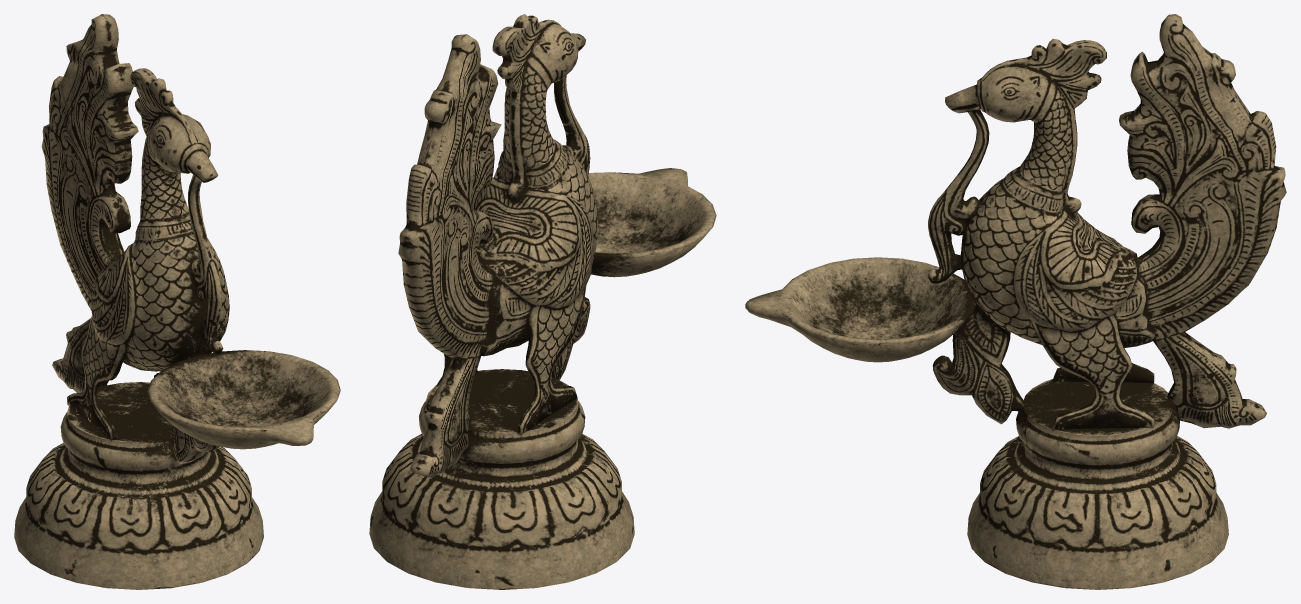
The model's file is candleStick.glb.
The picture shows the model from 3 angles, left to right: view 1: azimuth 30°, elevation 25°; view 2: azimuth 150°, elevation 25°; view 3: azimuth 270°, elevation 25°; orthographic projection. The views are drawn at different scales.
Parts seen in each view (by area): view 1: sa, Cylinder001, Sphere001; view 2: sa, Cylinder001, Sphere001; view 3: sa, Cylinder001, Sphere001.
Part boxes in pixels (x1=…): sa: x1=41, y1=14, x2=229, y2=464; Cylinder001: x1=14, y1=382, x2=263, y2=589; Sphere001: x1=147, y1=350, x2=340, y2=449; sa: x1=398, y1=14, x2=598, y2=477; Cylinder001: x1=369, y1=369, x2=634, y2=589; Sphere001: x1=588, y1=168, x2=716, y2=277; sa: x1=928, y1=14, x2=1286, y2=430; Cylinder001: x1=967, y1=379, x2=1228, y2=589; Sphere001: x1=745, y1=257, x2=976, y2=362.
Bounding box in the file's own units: 0.0825 × 0.1808 × 0.1708.
Materials: 1 (1 with a texture image).
